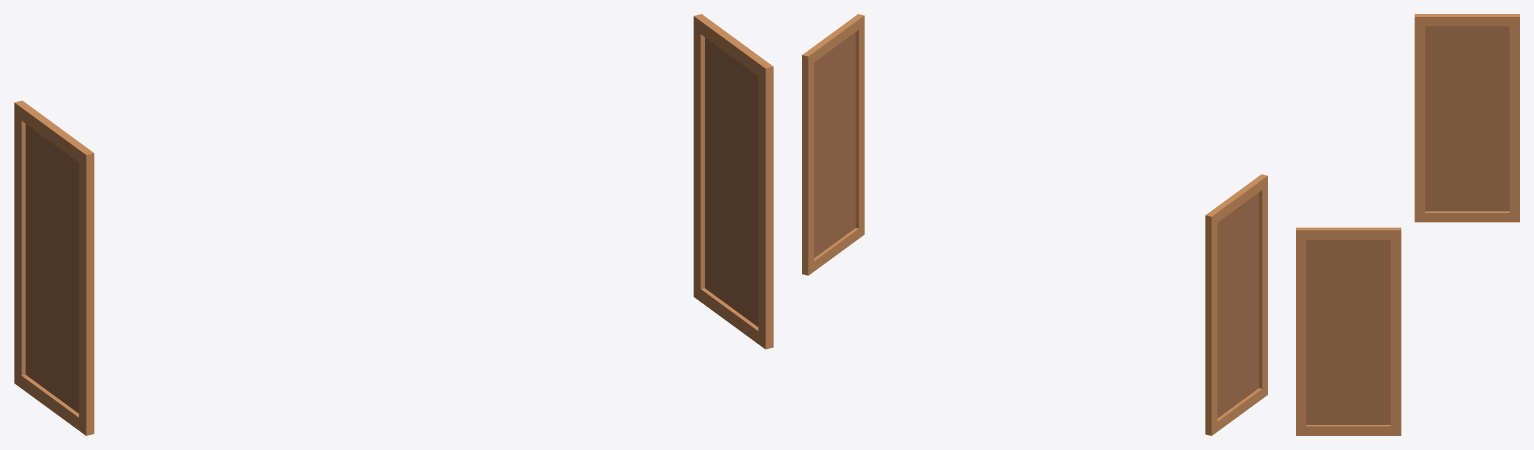
The model's file is Doors.fbx.
The picture shows the model from 3 angles, left to right: view 1: azimuth 30°, elevation 25°; view 2: azimuth 150°, elevation 25°; view 3: azimuth 270°, elevation 25°; orthographic projection. The views are drawn at different scales.
Parts seen in each view (by area): view 1: Door1, Door2; view 2: Door1, Door2; view 3: Door1, Door2.
Part boxes in pixels (x1,y1,x2,y2): Door1: (14,100,94,435); Door2: (693,14,773,349); Door1: (1205,174,1267,435); Door2: (802,14,864,275); Door1: (1414,14,1519,222); Door2: (1296,227,1401,435).
Size of the model in its own units: 213 by 488 by 216.
